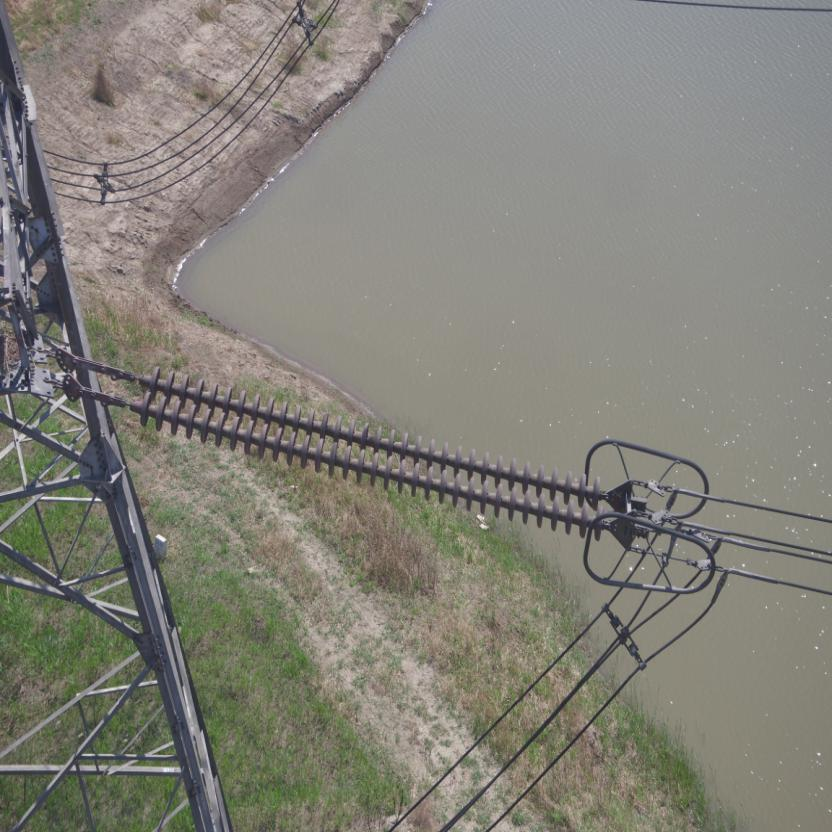insulator: (94, 361, 622, 543)
